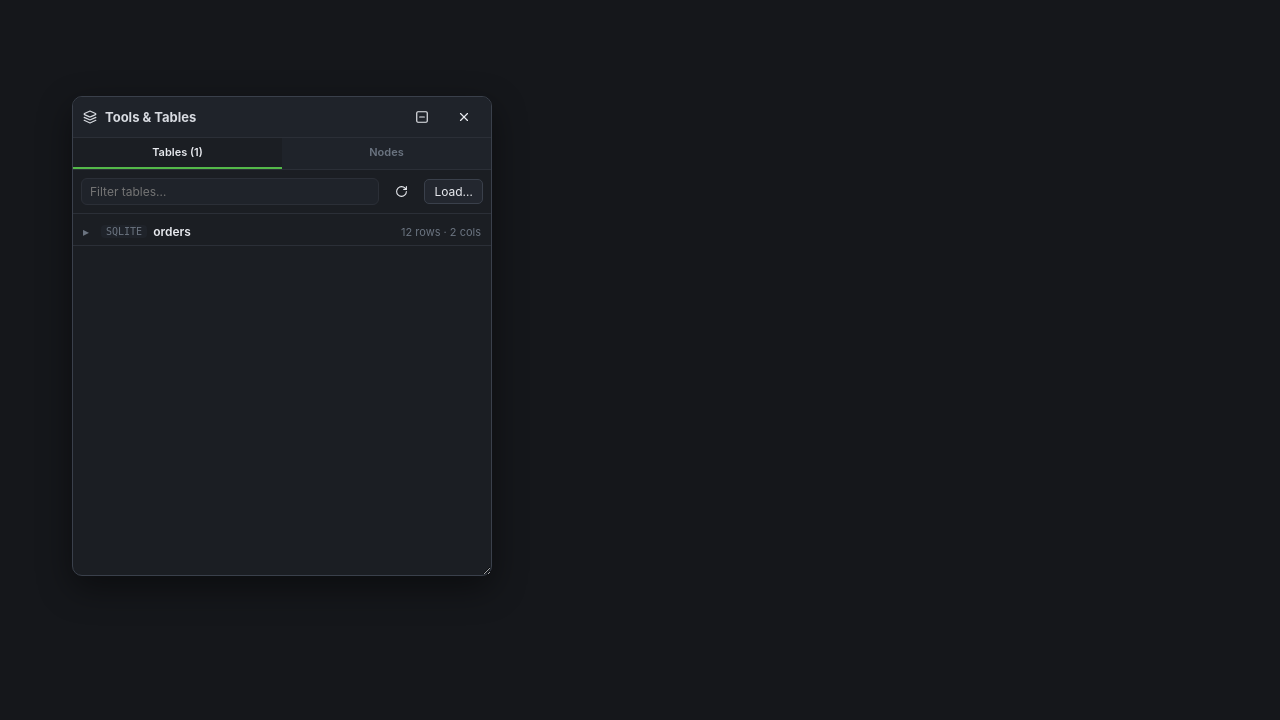
Test: ToolsTablesPanel › shows tables and can switch to node sections
Expected: the dialog with test id "tools-tables-panel" is shown, [72,96,492,576]
Expected: the text "orders" is shown, [153,224,191,239]
Step 1. Click the button with test id "tools-tables-tab-nodes" → point(386, 154), box [282,138,491,169]
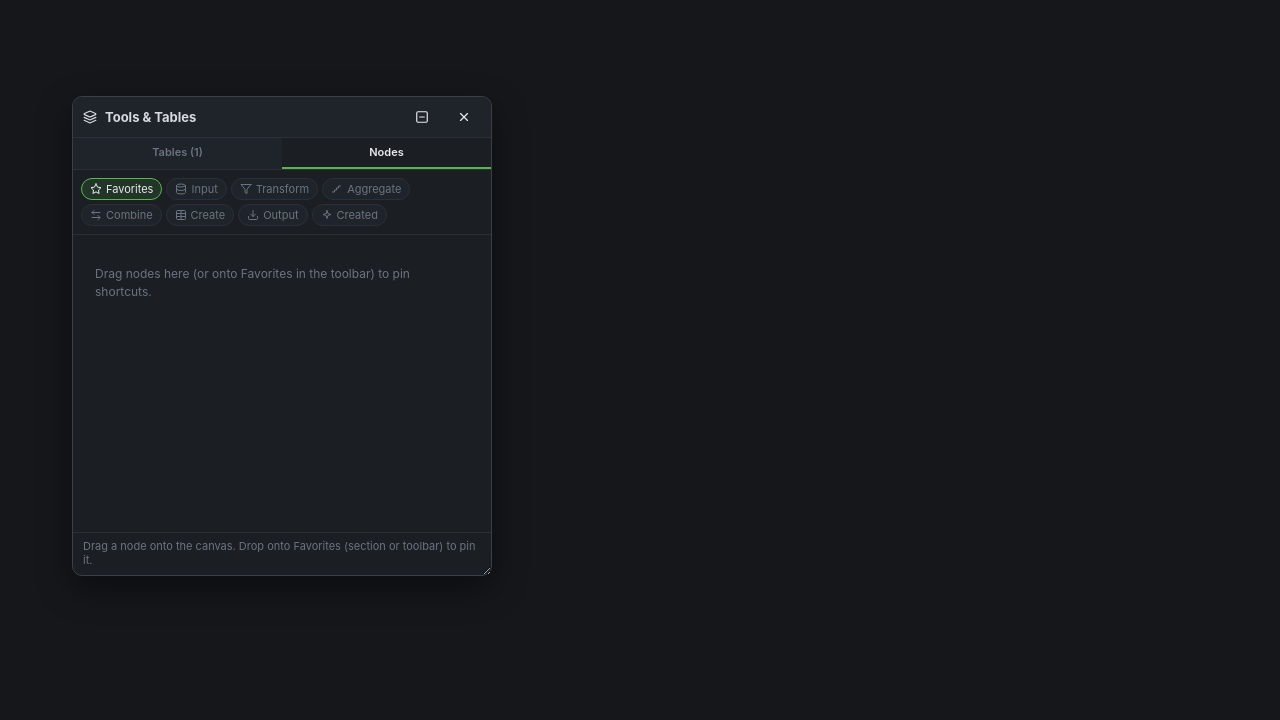
Expected: the tab with test id "tools-tables-section-favorites" is shown, [81,178,162,200]
Expected: the tab with test id "tools-tables-section-transform" is shown
Step 2. Click the tab with test id "tools-tables-section-transform" → point(274, 189), box [231,178,318,200]
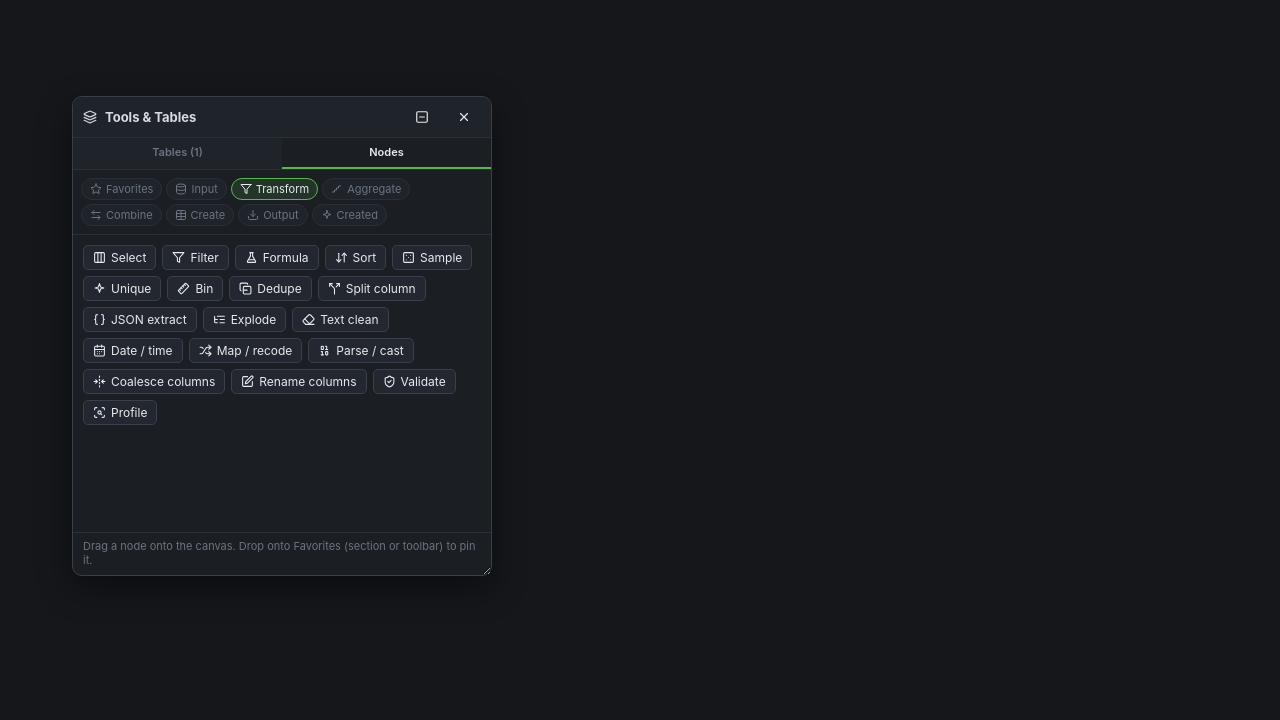
Expected: the button "Filter" is shown, [162,245,229,270]
